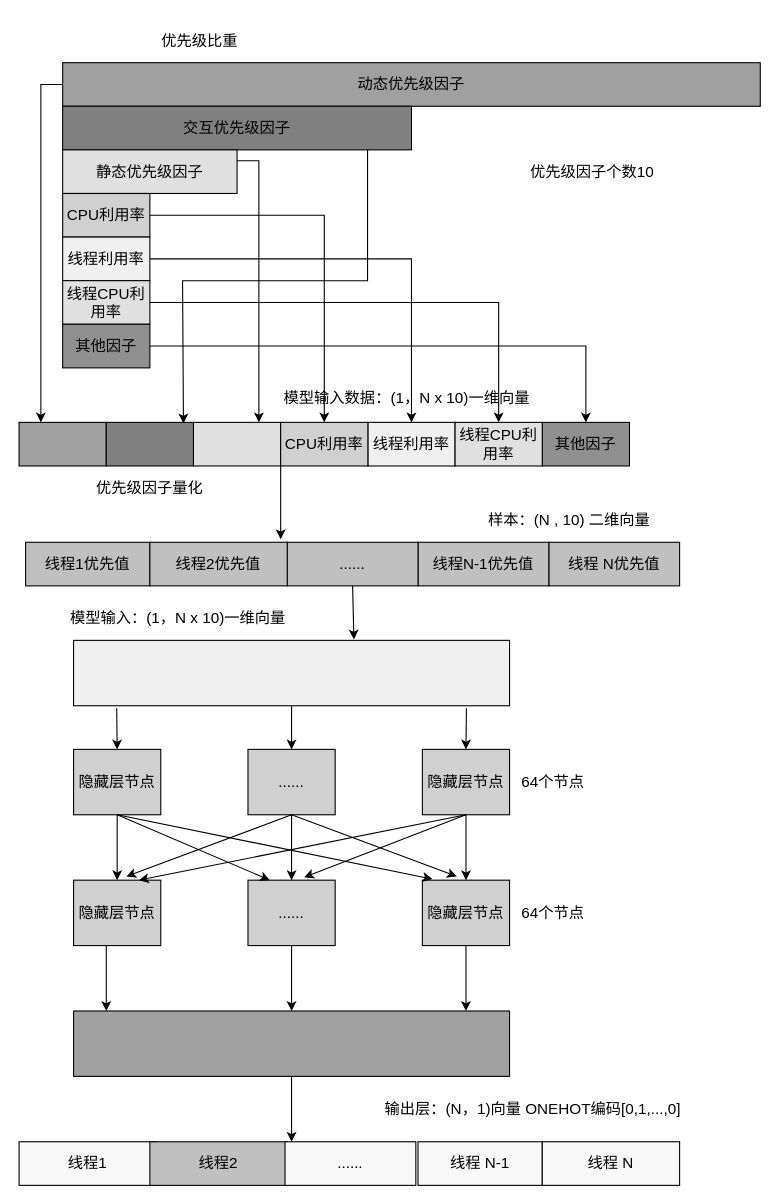
This 779x1204 diagram has some shape labels left out. Here are the shapes that lost their labels. From the top down, the centre of each, then its label:
(62,443): 动态优先级
(149,443): 交互优先级
(236,443): 静态优先级
(291,672): 模型输入层
(291,1043): 交叉熵损失函数
